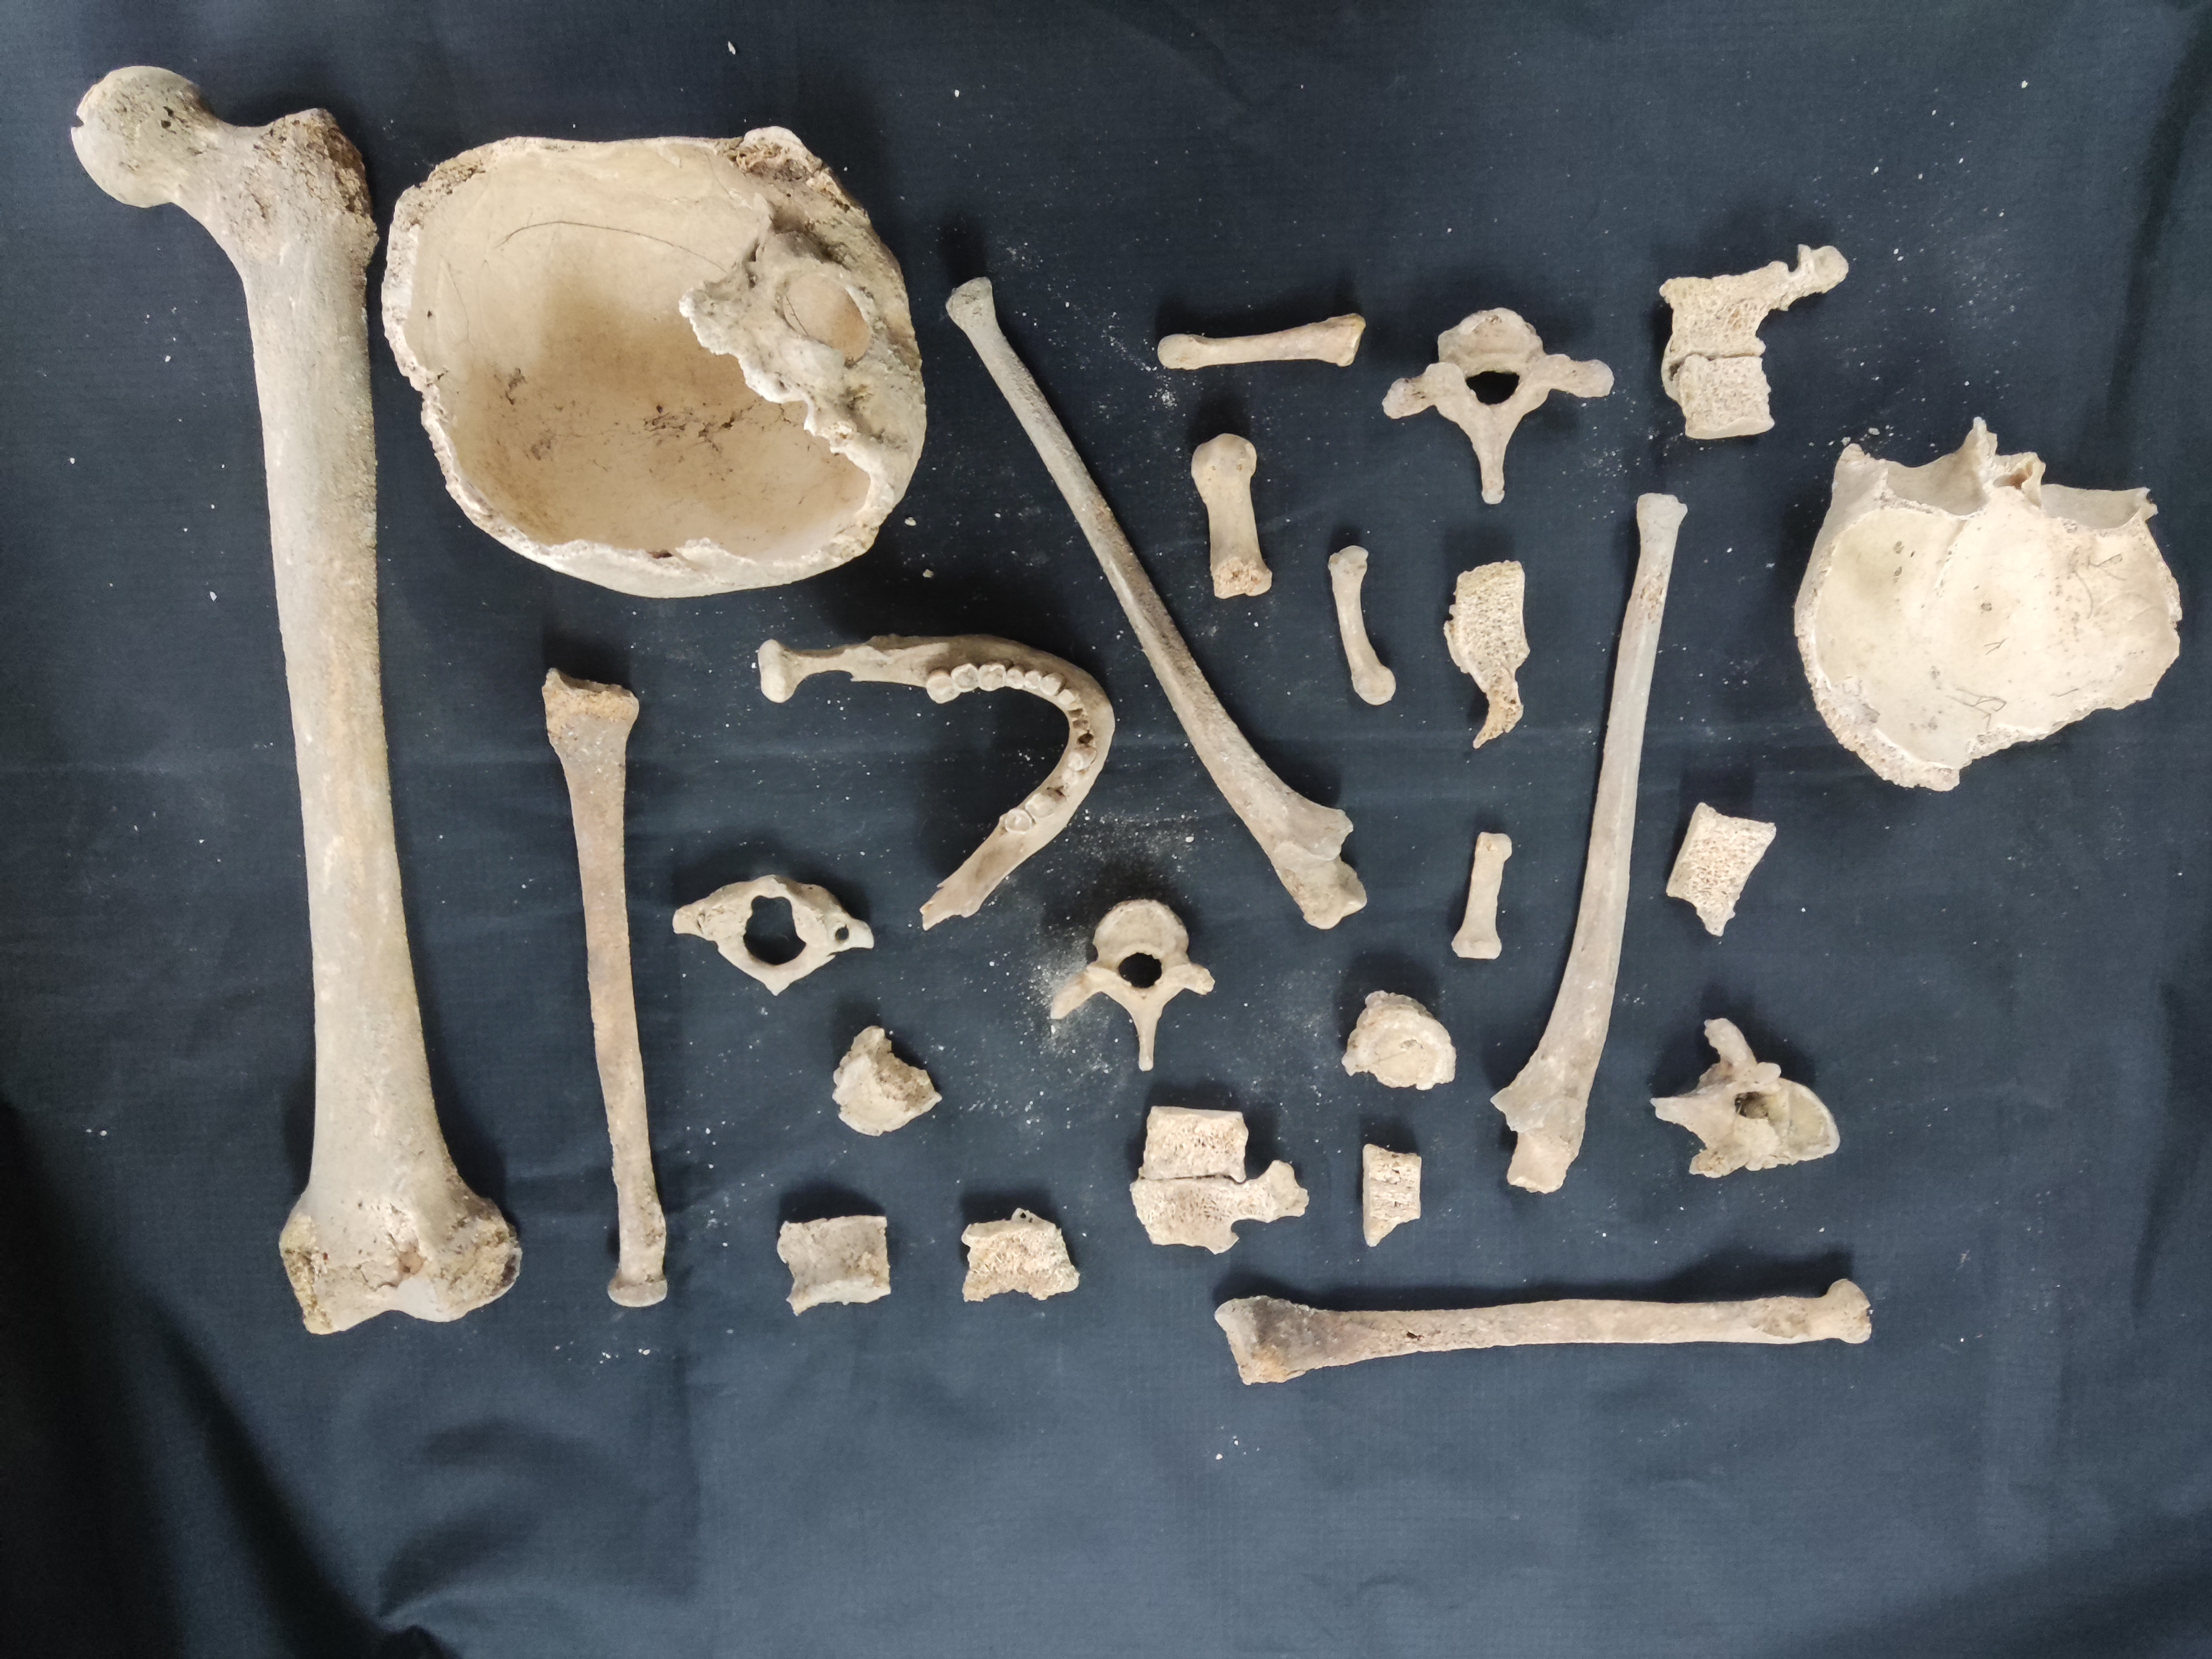бедренная: (57, 58, 528, 1338)
грудной позвонок: (1374, 312, 1611, 500), (1648, 1018, 1839, 1197), (1050, 896, 1211, 1054)
локтевая: (944, 272, 1374, 929), (1477, 488, 1691, 1185)
лучевая: (536, 655, 679, 1300), (1207, 1279, 1883, 1384)
сломанный позвонок: (1649, 251, 1853, 441), (1115, 1101, 1315, 1251), (1428, 568, 1533, 742), (827, 1026, 949, 1138), (770, 1208, 895, 1309), (1339, 988, 1458, 1093), (946, 1208, 1083, 1297), (1360, 1138, 1432, 1243)
стопа: (1662, 809, 1777, 938), (1190, 434, 1273, 601), (1315, 545, 1399, 701), (1435, 817, 1519, 964), (1153, 314, 1369, 368)
челюсть: (752, 633, 1120, 931)
череп: (380, 129, 932, 596), (1791, 441, 2182, 791)
шейный позвонок: (658, 871, 878, 997)
